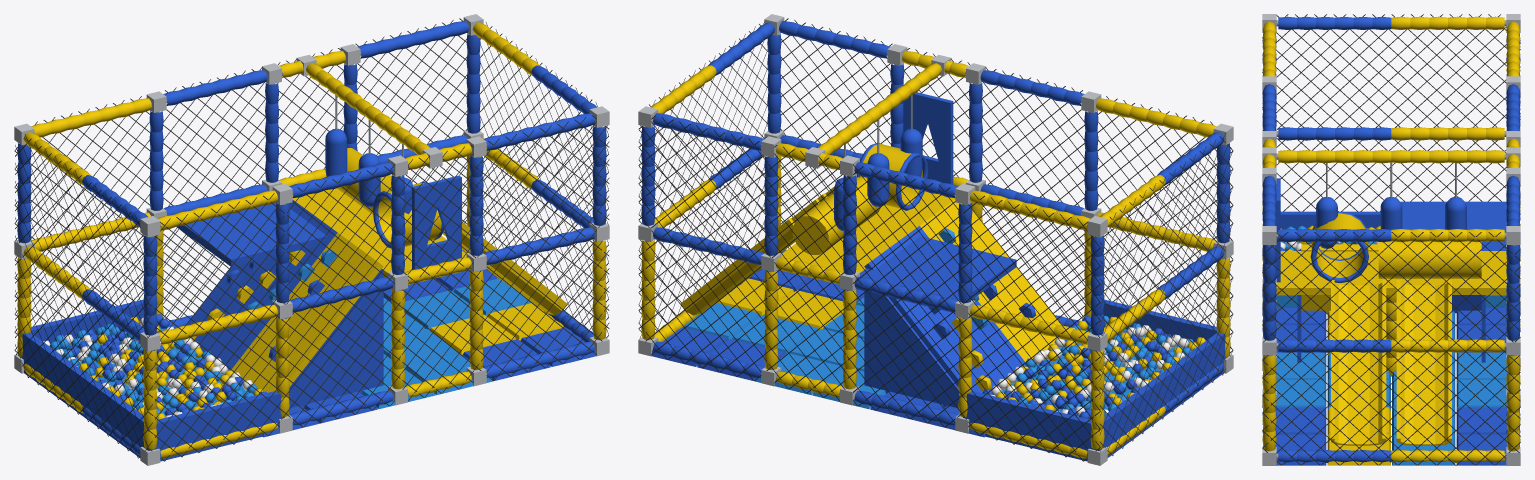
Rendered from web.glb.
3 views of the same model, side by side, from view 1: azimuth 30°, elevation 25°; view 2: azimuth 150°, elevation 25°; view 3: azimuth 270°, elevation 25° (orthographic). The views are drawn at different scales.
Parts seen in each view (by area): view 1: isotubo, rede, plataforma, acolchoado, piso, bolinhas, metal, plastico; view 2: isotubo, rede, plataforma, acolchoado, piso, bolinhas, metal, plastico; view 3: isotubo, rede, plastico, piso, plataforma, acolchoado, metal, bolinhas.
Part boxes in pixels (box(x1,y1,x2,y2)): isotubo: box(17, 21, 606, 458); rede: box(14, 18, 609, 461); plataforma: box(176, 175, 469, 408); acolchoado: box(18, 128, 443, 461); piso: box(262, 269, 596, 437); bolinhas: box(43, 314, 266, 419); metal: box(14, 14, 609, 465); plastico: box(191, 221, 567, 362); isotubo: box(641, 21, 1230, 458); rede: box(638, 18, 1233, 461); plataforma: box(778, 92, 1061, 408); acolchoado: box(792, 128, 1229, 461); piso: box(651, 269, 985, 437); bolinhas: box(983, 315, 1205, 419); metal: box(638, 14, 1233, 465); plastico: box(680, 186, 1036, 391); isotubo: box(1262, 16, 1520, 462); rede: box(1262, 14, 1520, 465); plastico: box(1331, 280, 1451, 445); piso: box(1263, 308, 1519, 465); plataforma: box(1275, 178, 1507, 362); acolchoado: box(1276, 197, 1506, 313); metal: box(1262, 14, 1520, 465); bolinhas: box(1280, 225, 1380, 250).
Bounding box in the file's own units: 4 × 2 × 2.
8 materials, 8 textured.
